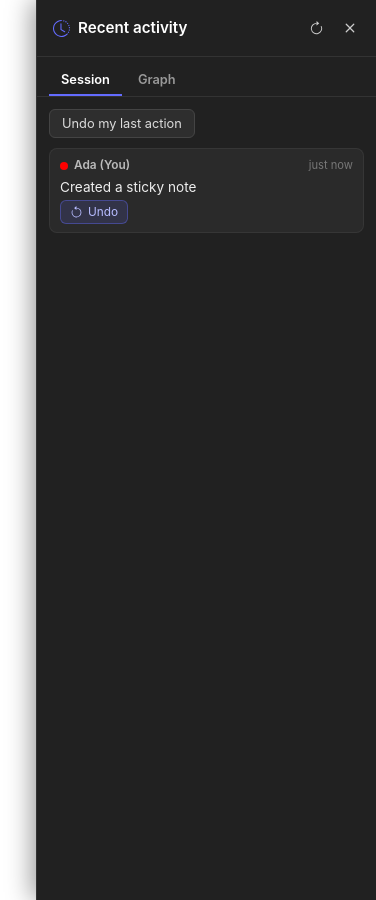
Test case: ActivityDrawer › shows a distinct message for a rate-limited undo
The width and height of the screenshot is (376, 900).
Check: the text "Created a sticky note" is shown, box [60,179,196,195]
Click the button "Undo my last action": [122, 124] box [49,109,195,138]
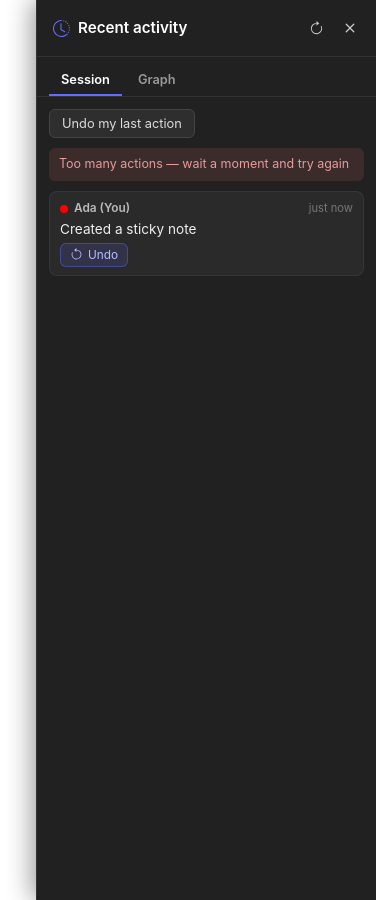
Check: the text "Too many actions — wait a moment and try again" is shown, box [49,148,364,181]
